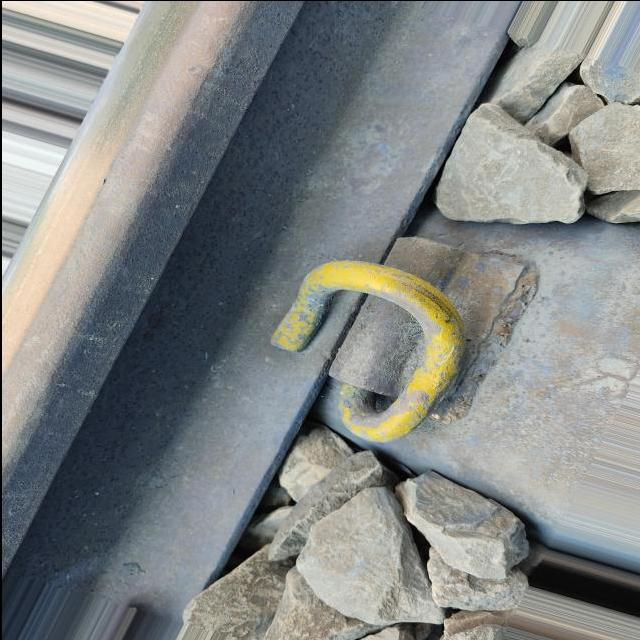squats_high: (184, 64, 198, 74), (97, 176, 106, 185)
